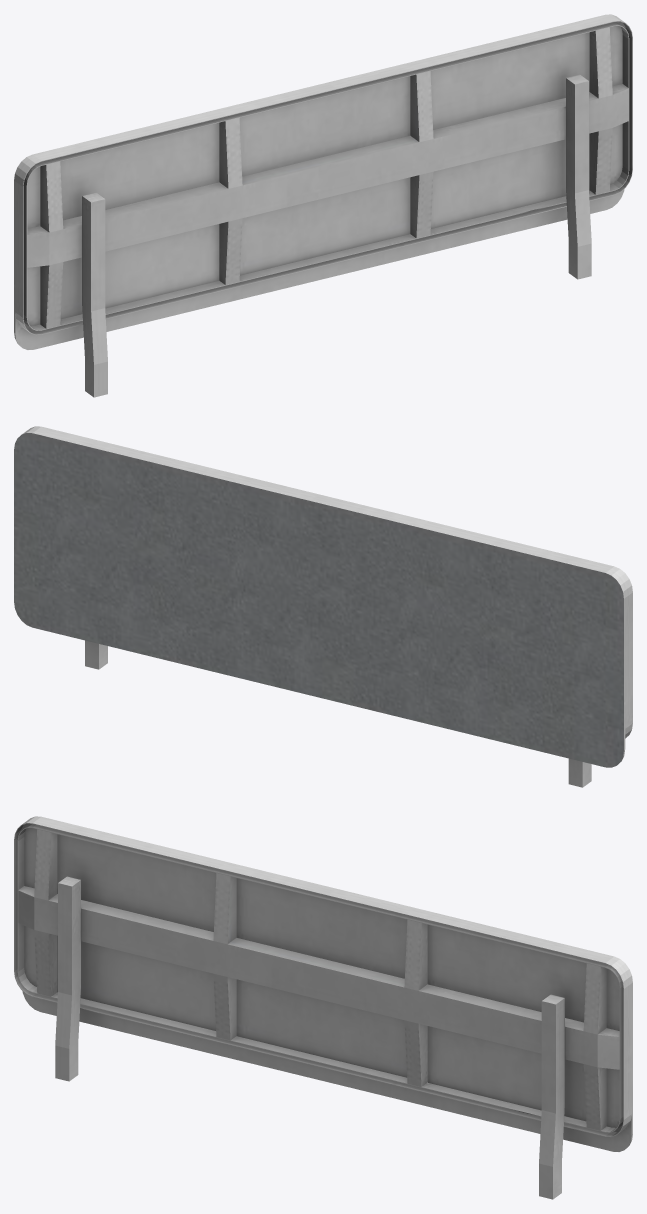
File: ME1AVTrappe.fbx
3 views of the same model, one above another, from view 1: azimuth 30°, elevation 25°; view 2: azimuth 150°, elevation 25°; view 3: azimuth 330°, elevation 25° (orthographic).
Parts seen in each view (by area): view 1: ShapeIndexedFaceSet; view 2: ShapeIndexedFaceSet; view 3: ShapeIndexedFaceSet.
Part boxes in pixels (bbox=[...]): ShapeIndexedFaceSet: bbox=[14, 14, 632, 397]; ShapeIndexedFaceSet: bbox=[14, 426, 632, 787]; ShapeIndexedFaceSet: bbox=[14, 816, 632, 1199].
Bounding box in the file's own units: 5.86 × 2.15 × 0.3975.
